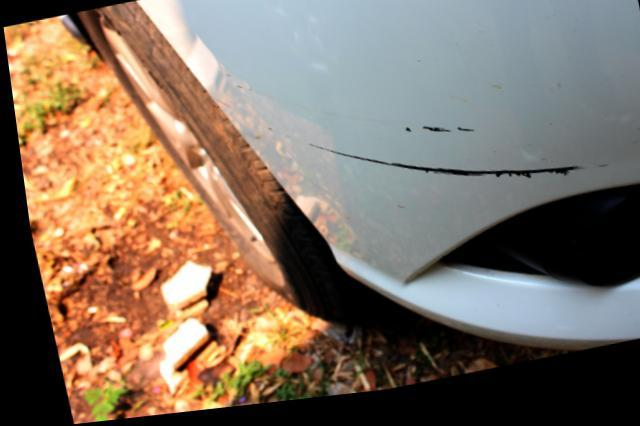scratch: (297, 148, 605, 191), (395, 134, 476, 146)
